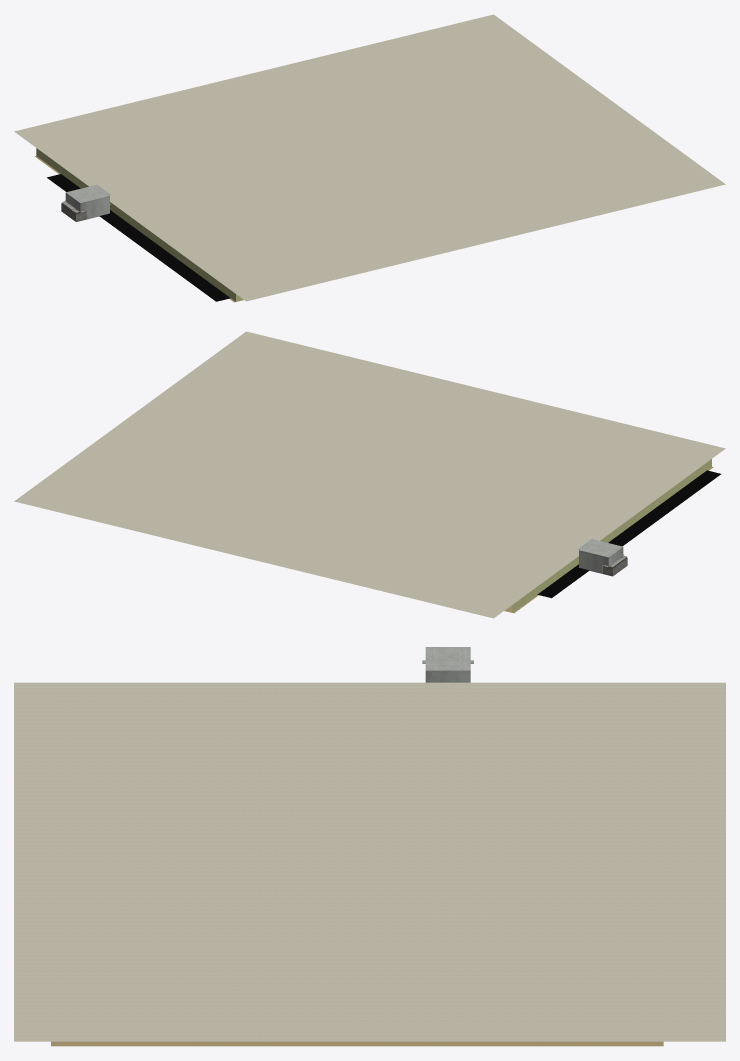
Rendered from course.dae.
3 renders of one model, top to bottom at view 1: azimuth 30°, elevation 25°; view 2: azimuth 150°, elevation 25°; view 3: azimuth 270°, elevation 25°, orthographic. The views are drawn at different scales.
Visible parts, largest first — view 1: ceiling_backrooms_top, floor_detail, wall_backrooms, wall_concrete, ceiling_hull; view 2: ceiling_backrooms_top, floor_detail, wall_backrooms, wall_concrete, ceiling_hull; view 3: ceiling_backrooms_top, floor_carpet, ceiling_hull.
Boxes of the visible parts, x1,y1,x2,y2 form: ceiling_backrooms_top: [14, 14, 725, 301]; floor_detail: [47, 174, 230, 301]; wall_backrooms: [36, 148, 242, 301]; wall_concrete: [65, 193, 109, 219]; ceiling_hull: [66, 184, 111, 202]; ceiling_backrooms_top: [14, 331, 725, 618]; floor_detail: [537, 470, 720, 598]; wall_backrooms: [512, 459, 711, 612]; wall_concrete: [579, 547, 623, 573]; ceiling_hull: [577, 539, 622, 557]; ceiling_backrooms_top: [14, 682, 725, 1041]; floor_carpet: [51, 1041, 663, 1046]; ceiling_hull: [425, 647, 470, 670].
Bounding box in the file's own units: 109253 × 3960 × 85241.
